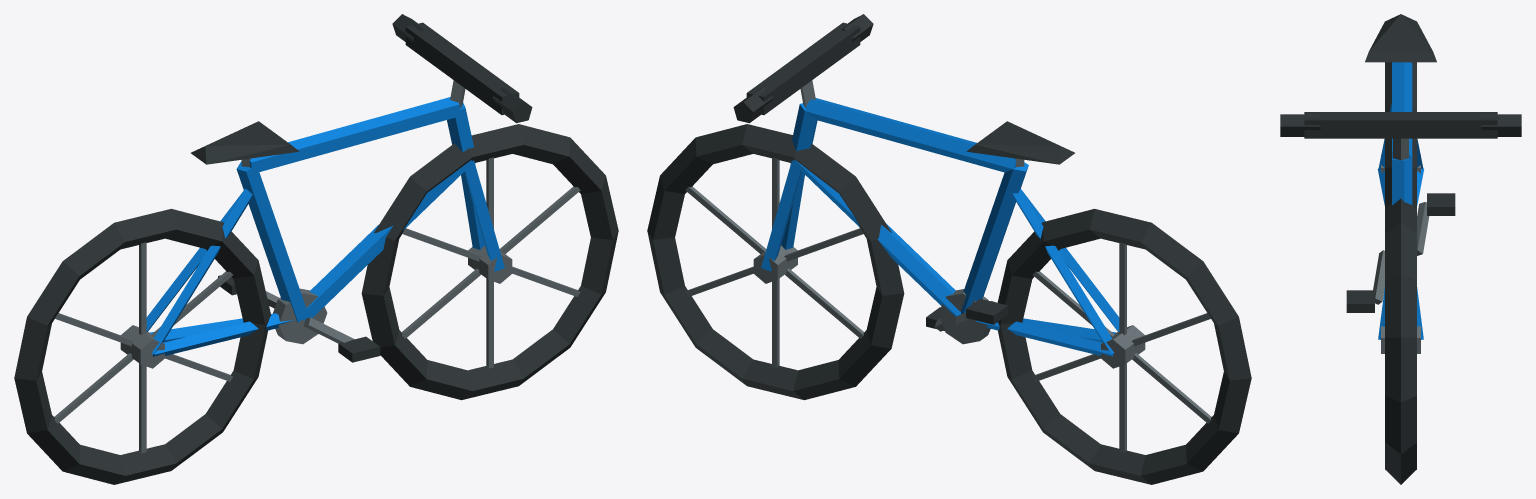
The model's file is bike.glb.
3 renders of one model, left to right at view 1: azimuth 30°, elevation 25°; view 2: azimuth 150°, elevation 25°; view 3: azimuth 270°, elevation 25°, orthographic.
Parts seen in each view (by area): view 1: bike-m; view 2: bike-m; view 3: bike-m.
Part boxes in pixels (x1,y1,x2,y2): bike-m: (14, 14, 618, 484); bike-m: (647, 14, 1251, 484); bike-m: (1280, 14, 1521, 484).
Bounding box in the file's own units: 1.74 × 0.9407 × 0.6.
